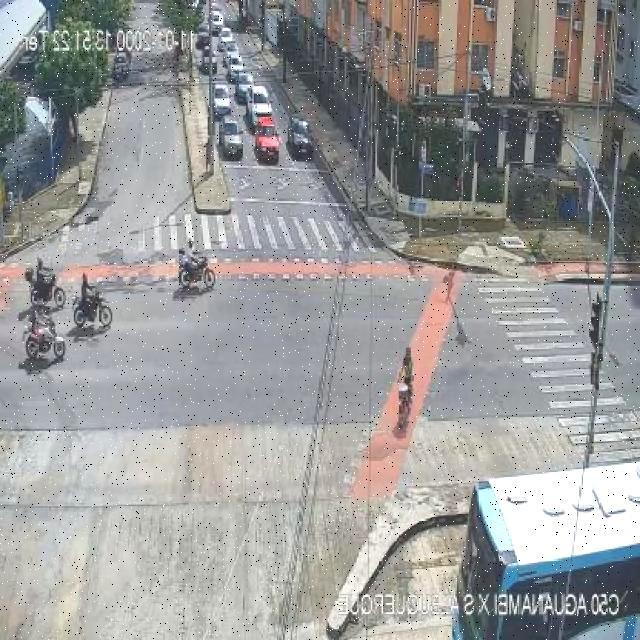Bus: (452, 463, 640, 640)
Car: (288, 118, 315, 160), (253, 122, 280, 163), (218, 118, 244, 158), (248, 100, 273, 130), (212, 83, 231, 117), (233, 74, 254, 102), (112, 52, 131, 82), (226, 56, 246, 80), (199, 52, 218, 74), (222, 42, 241, 64), (218, 28, 235, 50), (210, 9, 224, 33), (196, 26, 210, 48)
Cycle: (24, 307, 66, 361), (72, 284, 116, 330), (27, 269, 66, 311), (175, 255, 217, 288)
